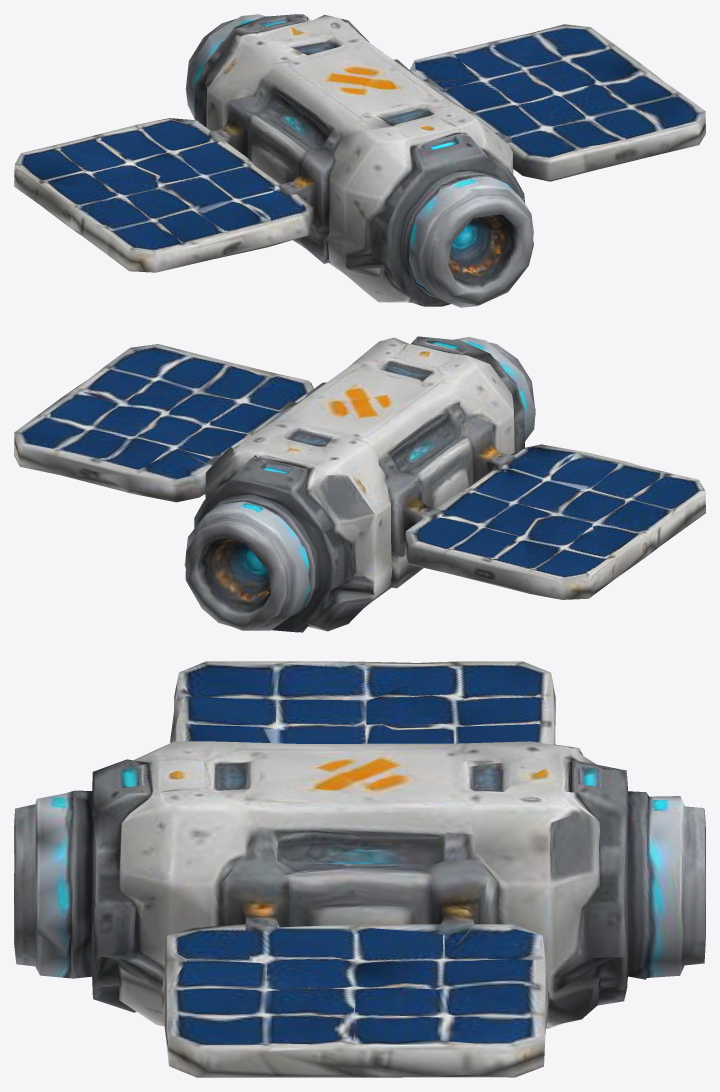
The model's file is solar.glb.
3 views of the same model, one above another, from view 1: azimuth 30°, elevation 25°; view 2: azimuth 150°, elevation 25°; view 3: azimuth 270°, elevation 25° (orthographic). The views are drawn at different scales.
Visible parts, largest first — view 1: tripo_node_1595cf77-11e2-4fb0-b3a0-cc91bb138d8b; view 2: tripo_node_1595cf77-11e2-4fb0-b3a0-cc91bb138d8b; view 3: tripo_node_1595cf77-11e2-4fb0-b3a0-cc91bb138d8b.
Boxes of the visible parts, box(x1,y1,x2,y2) form: tripo_node_1595cf77-11e2-4fb0-b3a0-cc91bb138d8b: box(14, 14, 705, 307); tripo_node_1595cf77-11e2-4fb0-b3a0-cc91bb138d8b: box(14, 336, 705, 632); tripo_node_1595cf77-11e2-4fb0-b3a0-cc91bb138d8b: box(14, 661, 705, 1077).
Bounding box in the file's own units: 0.973 × 0.2655 × 0.7332.
1 material, 1 textured.
